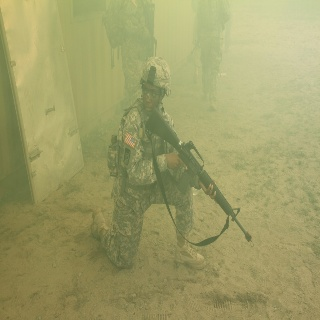rifle: (144, 105, 258, 244)
